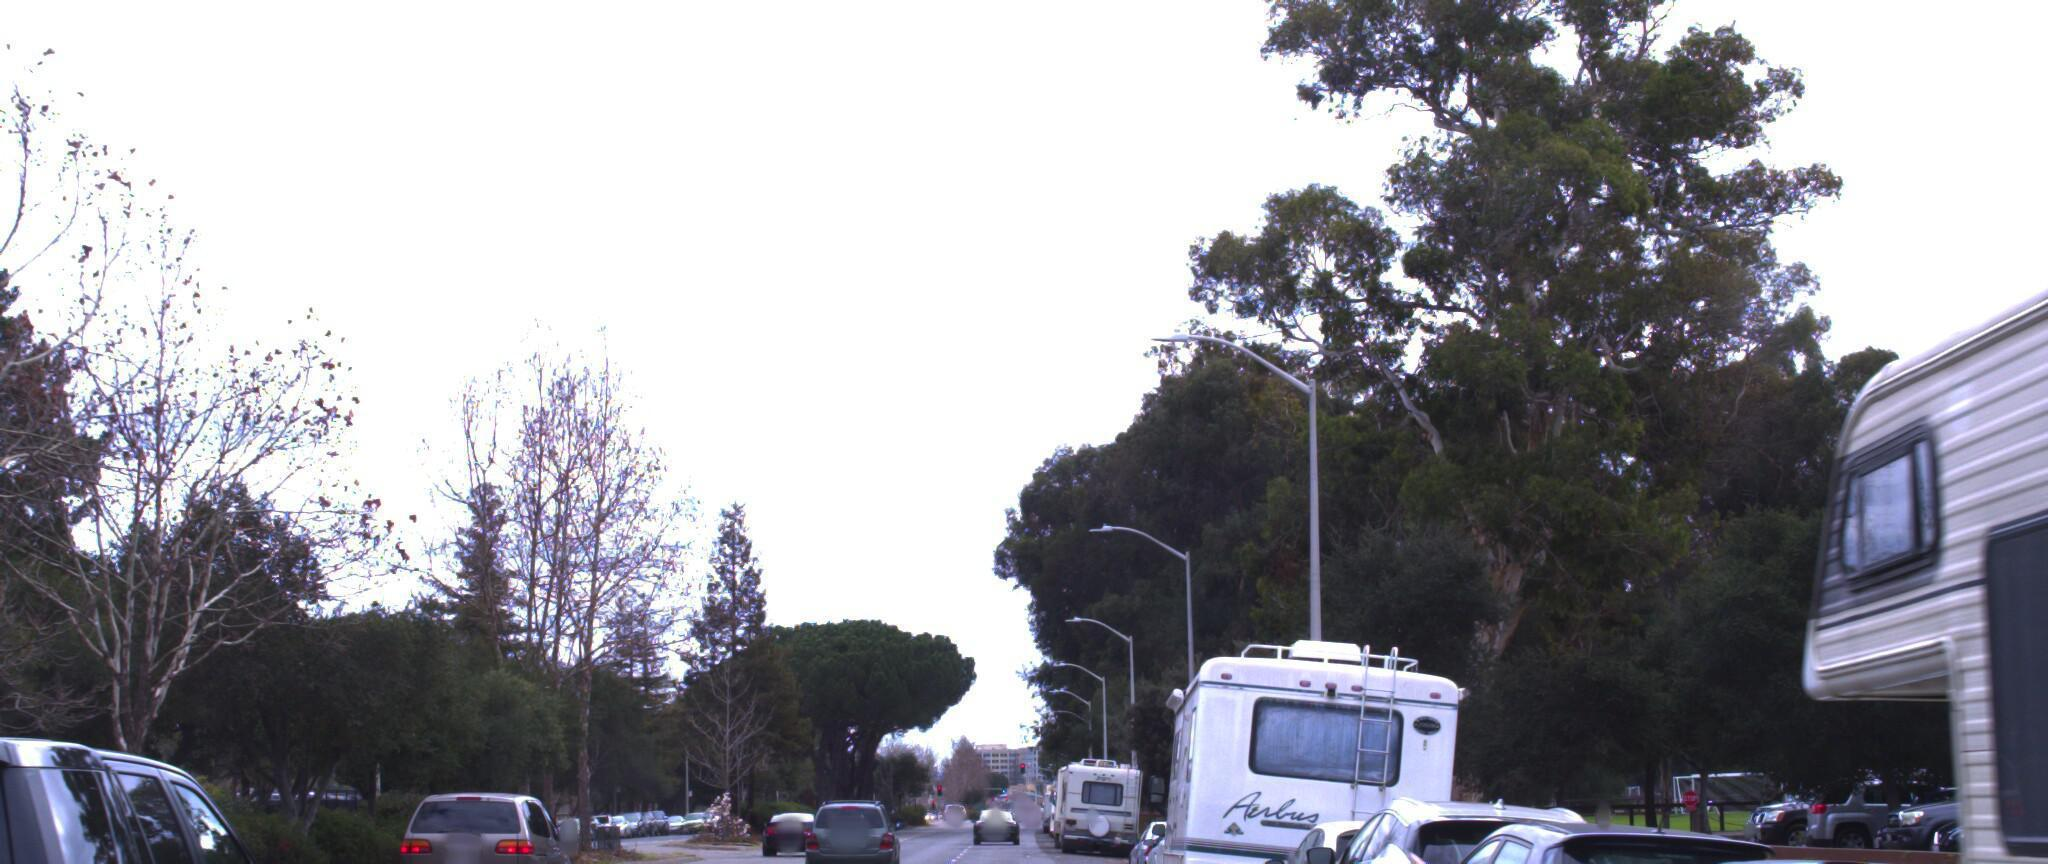car: (0, 711, 391, 864), (1314, 795, 1881, 864), (1270, 777, 1639, 864), (1490, 820, 2048, 864), (389, 775, 590, 864), (1236, 795, 1489, 864), (808, 773, 904, 860)
other_vehicle: (1657, 0, 2048, 864), (1142, 619, 1479, 864)
